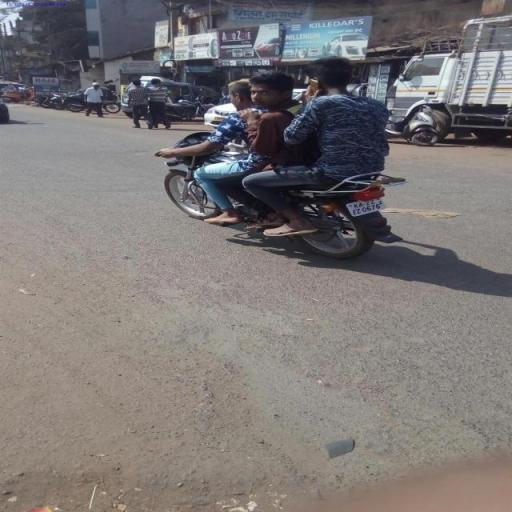tripple riding: (197, 56, 407, 164)
